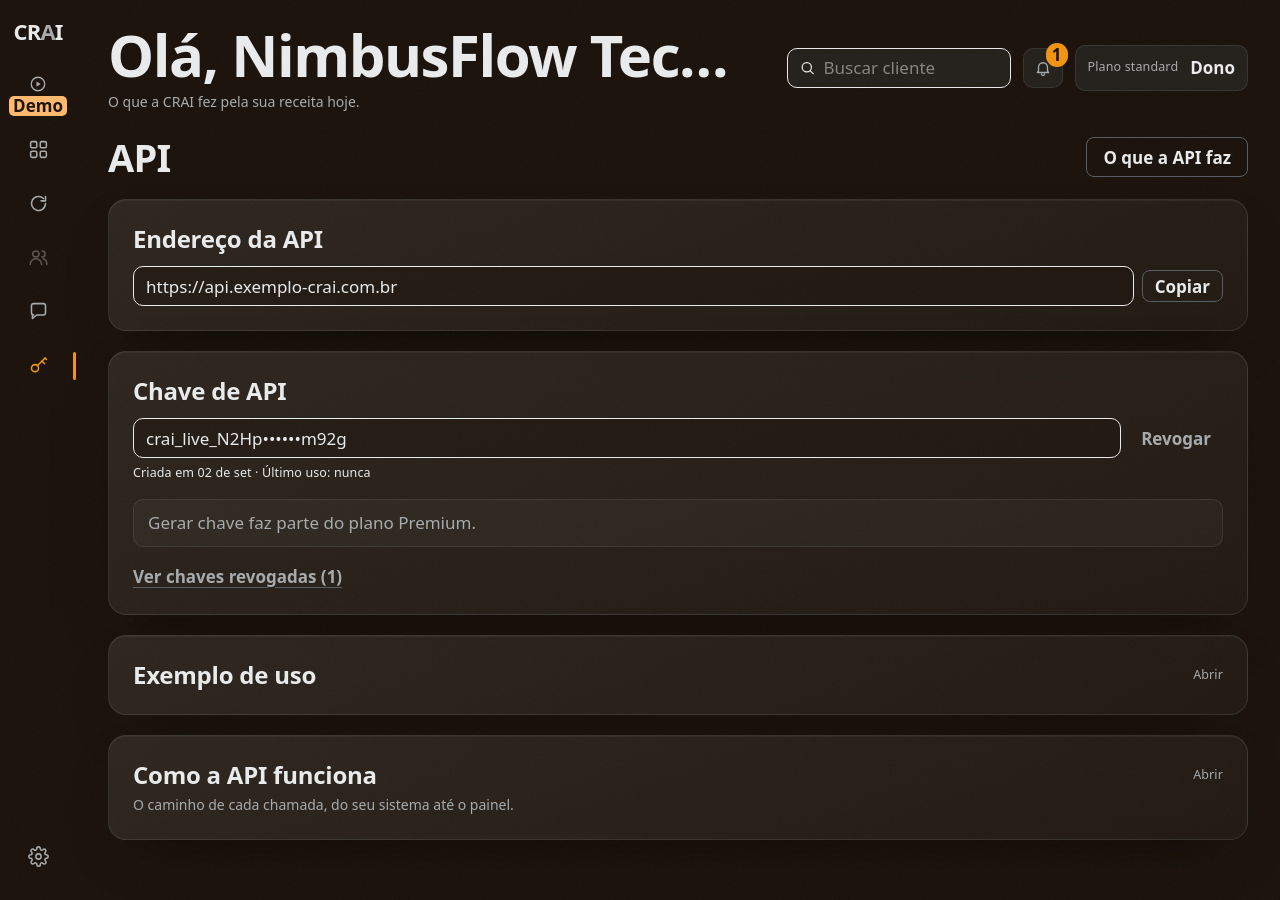
Scenario: aba API: os estados › plano essencial: a aba abre, mostra e revoga; gerar é do Premium
expect the field named "Chave de API" holds "crai_live_N2Hp••••••m92g": met, box [133,418,1121,458]
expect the text "Gerar chave faz parte do plano Premium." is shown: met, box [133,499,1223,547]
Note: E revoga.
Click the button "Revogar".
click(1176, 438)  # box [1129,422,1223,454]
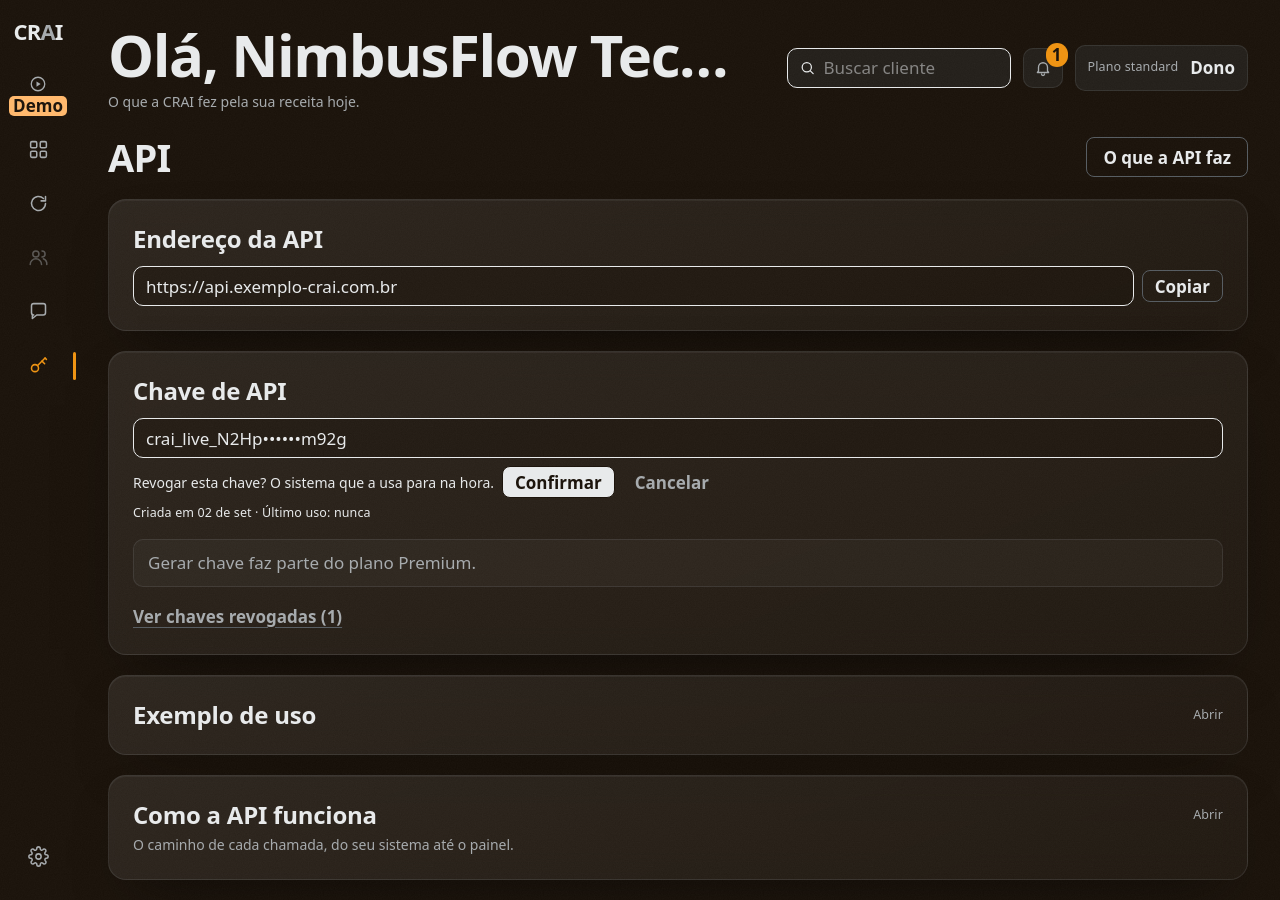
Click the button "Confirmar".
click(558, 482)  # box [502,466,615,498]
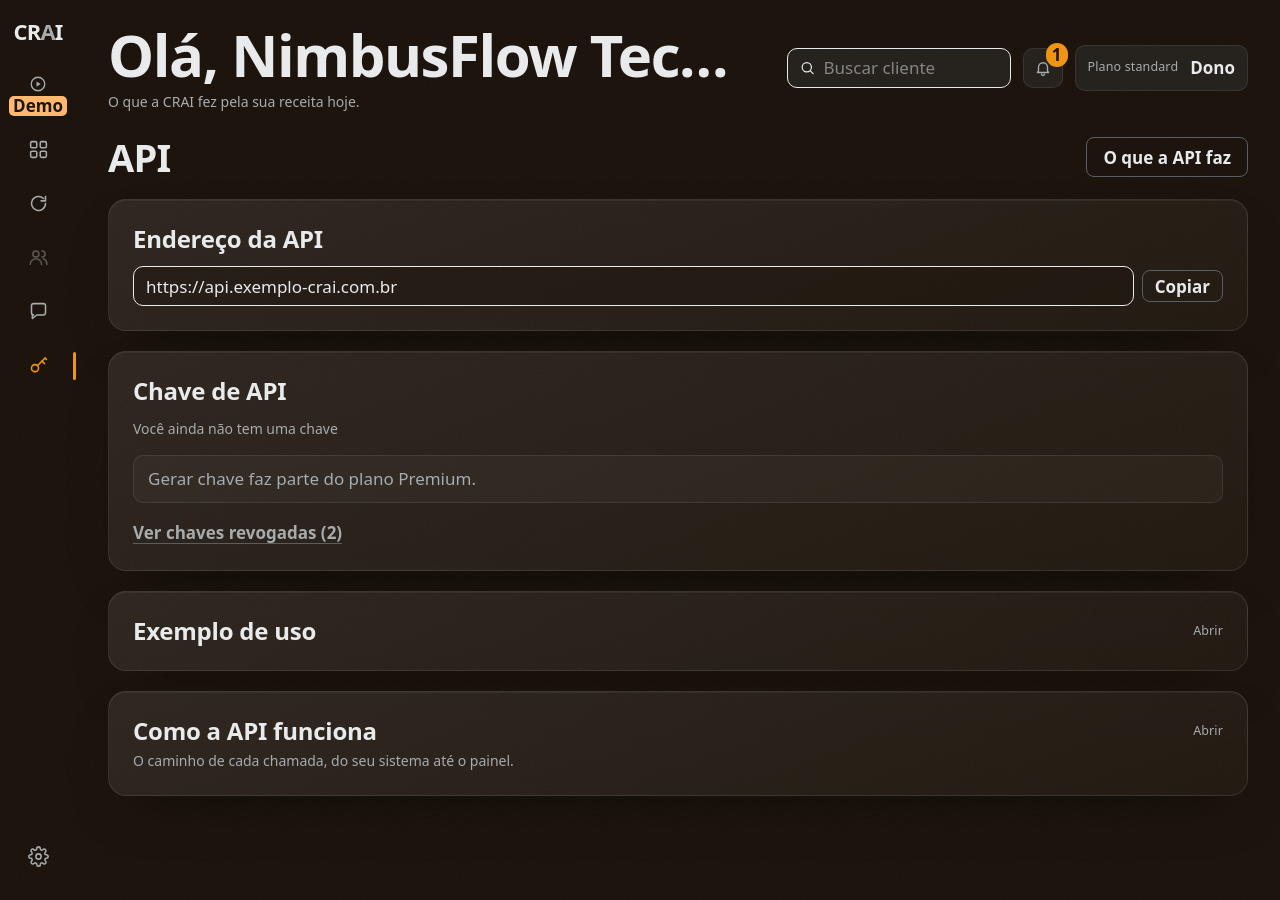
expect the text "Gerar chave faz parte do plano Premium." is shown: met, box [133,455,1223,503]
expect the text "Você ainda não tem uma chave" is shown: met, box [133,419,338,438]
expect the button "Ver chaves revogadas (2)" is shown: met, box [133,519,342,546]
